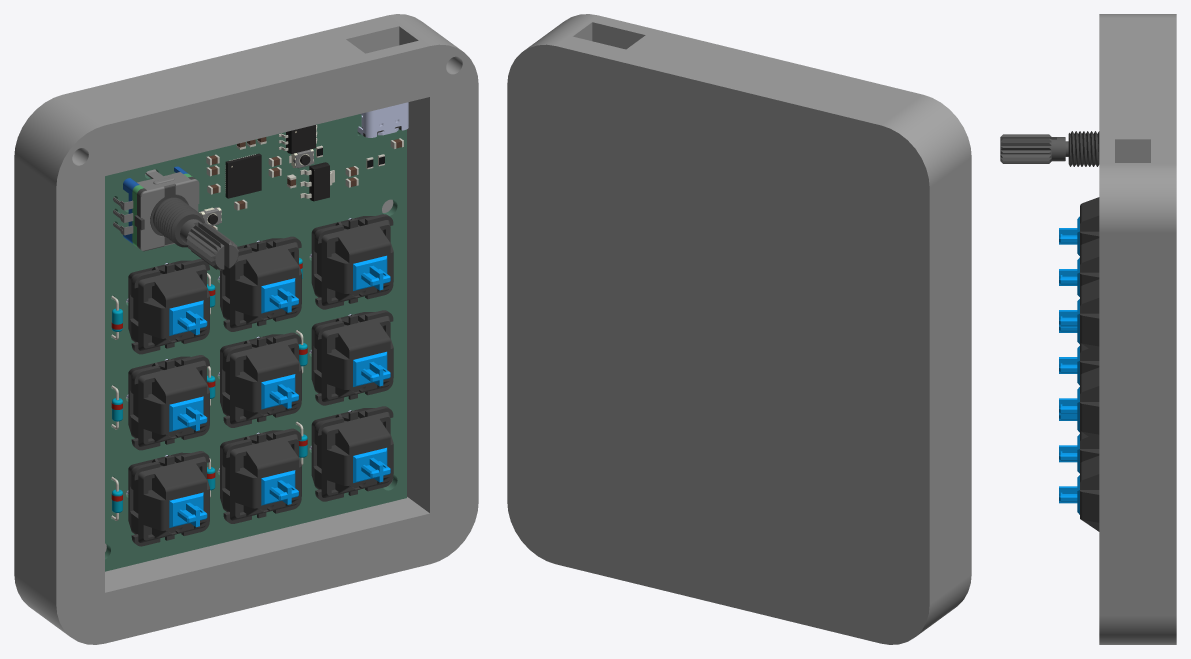
Rendered from CAD.fbx.
3 renders of one model, left to right at view 1: azimuth 30°, elevation 25°; view 2: azimuth 150°, elevation 25°; view 3: azimuth 270°, elevation 25°, orthographic. The views are drawn at different scales.
Parts seen in each view (by area): view 1: Body1 (×14), Body3 (×9), Body2 (×9), Body6, Body9, Body10, Body42; view 2: Body1; view 3: Body1 (×8), Body2 (×7), Body10, Body9.
Boxes of the visible parts, x1=… form: Body1 (×14): x1=14, y1=14, x2=478, y2=644; Body3 (×9): x1=128, y1=214, x2=393, y2=546; Body2 (×9): x1=169, y1=255, x2=390, y2=527; Body6: x1=137, y1=169, x2=199, y2=251; Body9: x1=134, y1=176, x2=204, y2=249; Body10: x1=180, y1=219, x2=238, y2=270; Body42: x1=357, y1=102, x2=408, y2=137; Body1: x1=507, y1=14, x2=971, y2=644; Body1 (×8): x1=1080, y1=14, x2=1176, y2=644; Body2 (×7): x1=1059, y1=216, x2=1079, y2=514; Body10: x1=1000, y1=134, x2=1068, y2=163; Body9: x1=1068, y1=131, x2=1099, y2=166.
Bounding box in the file's own units: 87 × 102 × 34.24.
